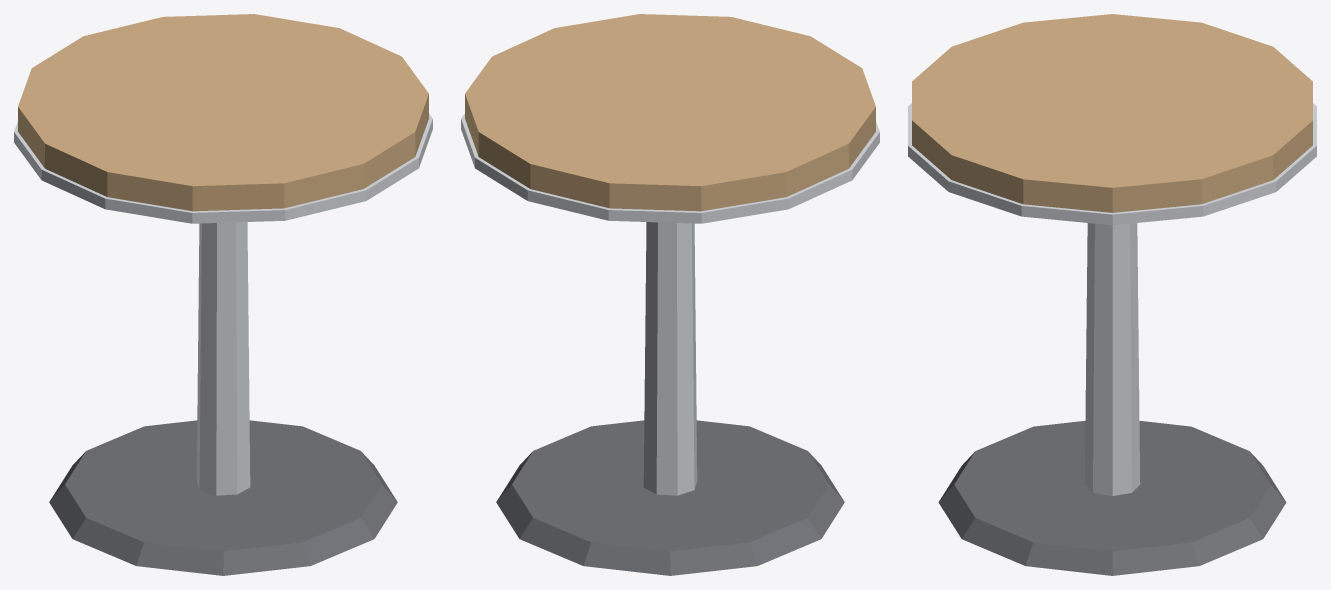
The picture shows the model from 3 angles, left to right: view 1: azimuth 30°, elevation 25°; view 2: azimuth 150°, elevation 25°; view 3: azimuth 270°, elevation 25°; orthographic projection.
Parts seen in each view (by area): view 1: high-table-timber, high-table-charcoal, high-table-steel; view 2: high-table-timber, high-table-charcoal, high-table-steel; view 3: high-table-timber, high-table-charcoal, high-table-steel.
Part boxes in pixels (x1=…): high-table-timber: x1=18, y1=14, x2=428, y2=211; high-table-charcoal: x1=49, y1=420, x2=397, y2=575; high-table-steel: x1=14, y1=113, x2=432, y2=495; high-table-timber: x1=465, y1=14, x2=875, y2=211; high-table-charcoal: x1=496, y1=420, x2=844, y2=575; high-table-steel: x1=461, y1=113, x2=879, y2=495; high-table-timber: x1=912, y1=14, x2=1312, y2=212; high-table-charcoal: x1=938, y1=421, x2=1286, y2=575; high-table-steel: x1=908, y1=103, x2=1316, y2=496.
Size of the model in its own units: 1.06 by 1.12 by 1.03.
